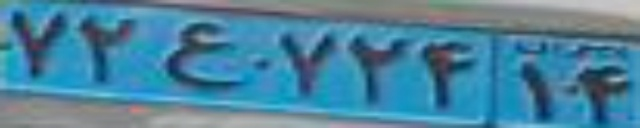1: (517, 59, 555, 120)
2: (347, 34, 409, 103), (79, 18, 133, 82)
4: (419, 41, 478, 109), (579, 66, 635, 123)
7: (276, 31, 341, 97), (15, 10, 68, 77)
ain: (155, 21, 250, 89)
